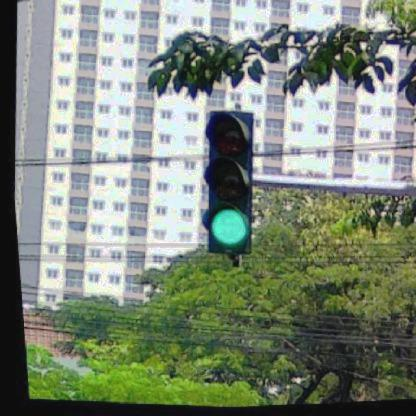Traffic Light -Green-: (188, 109, 263, 261)
